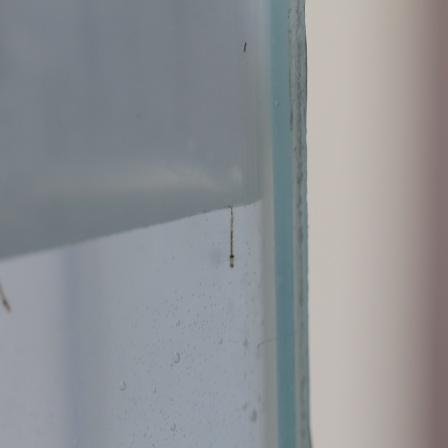Jentik-Nyamuk: (225, 204, 241, 272)
